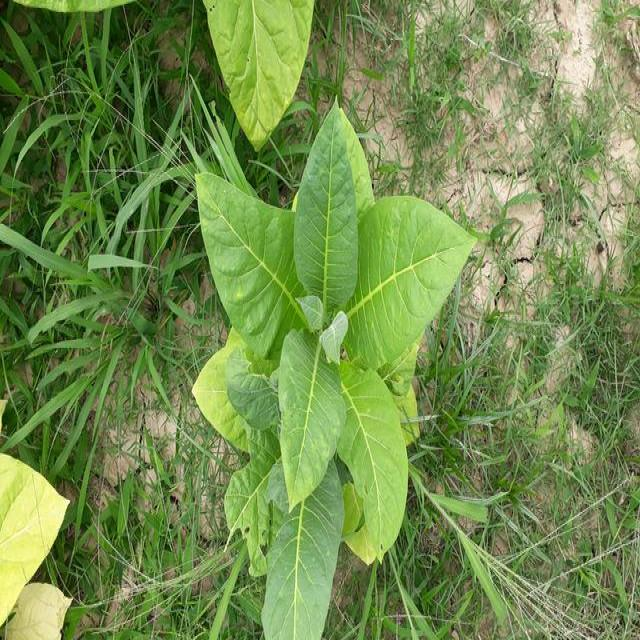crop: (192, 132, 475, 640), (202, 0, 318, 134), (0, 449, 71, 640), (17, 0, 148, 23)
